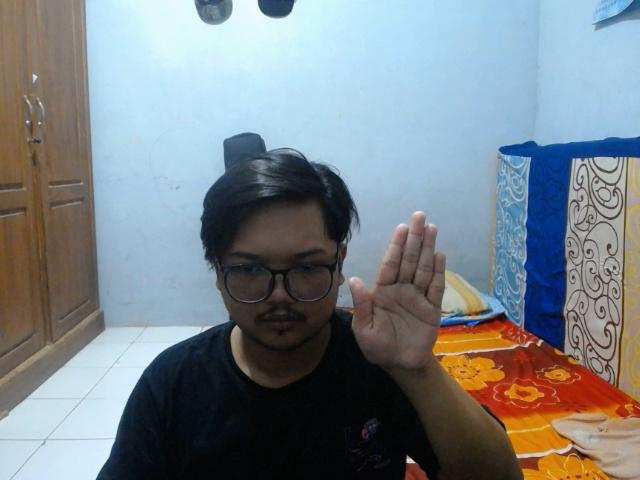Release: (344, 207, 449, 372)
